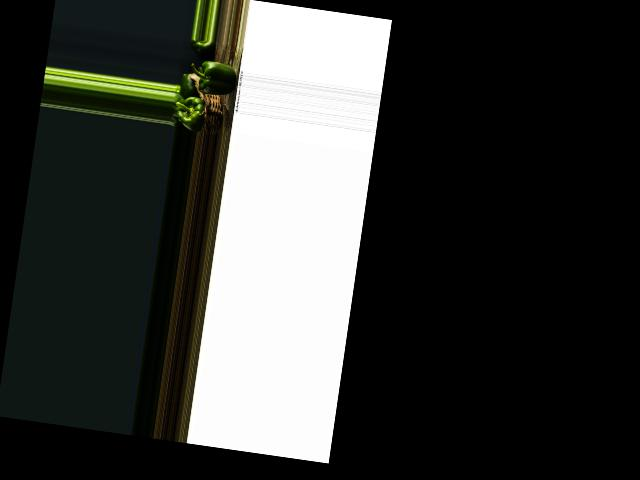bell_pepper: (189, 38, 212, 54)
